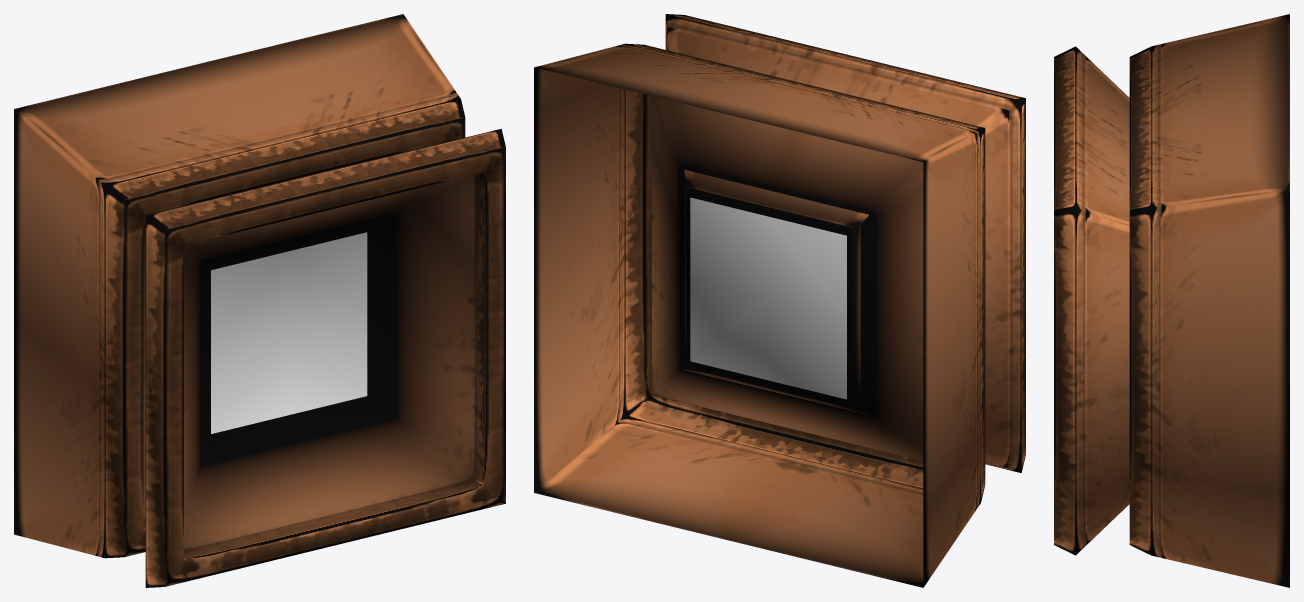
File: conveyorExit.fbx
The picture shows the model from 3 angles, left to right: view 1: azimuth 30°, elevation 25°; view 2: azimuth 150°, elevation 25°; view 3: azimuth 270°, elevation 25°; orthographic projection. The views are drawn at different scales.
Visible parts, largest first — view 1: conveyerExit; view 2: conveyerExit; view 3: conveyerExit.
Part boxes in pixels (x1=…): conveyerExit: x1=14, y1=14, x2=505, y2=587; conveyerExit: x1=534, y1=14, x2=1025, y2=587; conveyerExit: x1=1054, y1=14, x2=1289, y2=587.
Bounding box in the file's own units: 188 × 197 × 106.
